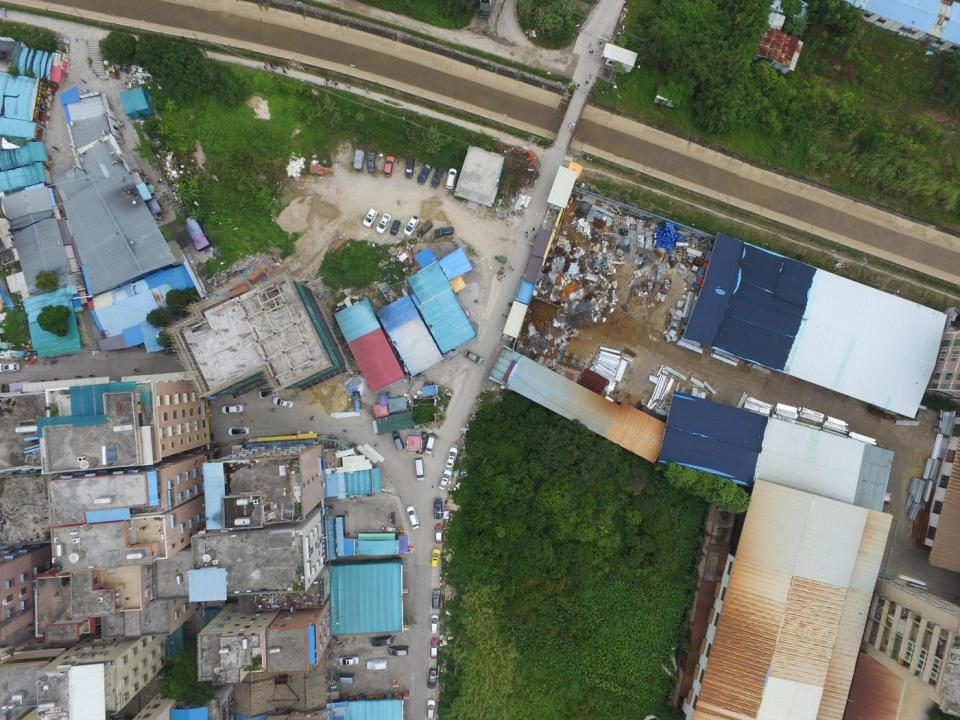car: (361, 206, 380, 228), (403, 214, 419, 236), (376, 213, 392, 234), (463, 350, 484, 366), (406, 505, 420, 529), (417, 162, 432, 184), (352, 148, 365, 170), (445, 446, 458, 468), (438, 468, 451, 490), (366, 658, 388, 671), (0, 361, 22, 374), (431, 167, 444, 188), (338, 654, 359, 667), (445, 168, 457, 190), (272, 396, 294, 408), (370, 636, 394, 647), (221, 403, 244, 414), (227, 426, 250, 437), (383, 156, 395, 177), (366, 150, 377, 172), (427, 667, 438, 689), (388, 645, 410, 656), (434, 226, 455, 237), (433, 523, 444, 544), (433, 497, 443, 520), (429, 637, 439, 660), (258, 388, 278, 399), (429, 614, 440, 634), (432, 588, 441, 610), (426, 698, 435, 719), (390, 219, 401, 236), (431, 548, 441, 566)
truck: (478, 0, 493, 20)
van: (416, 221, 434, 238), (391, 432, 404, 451), (403, 156, 414, 178), (415, 457, 425, 481), (424, 434, 435, 455), (336, 673, 355, 685)
